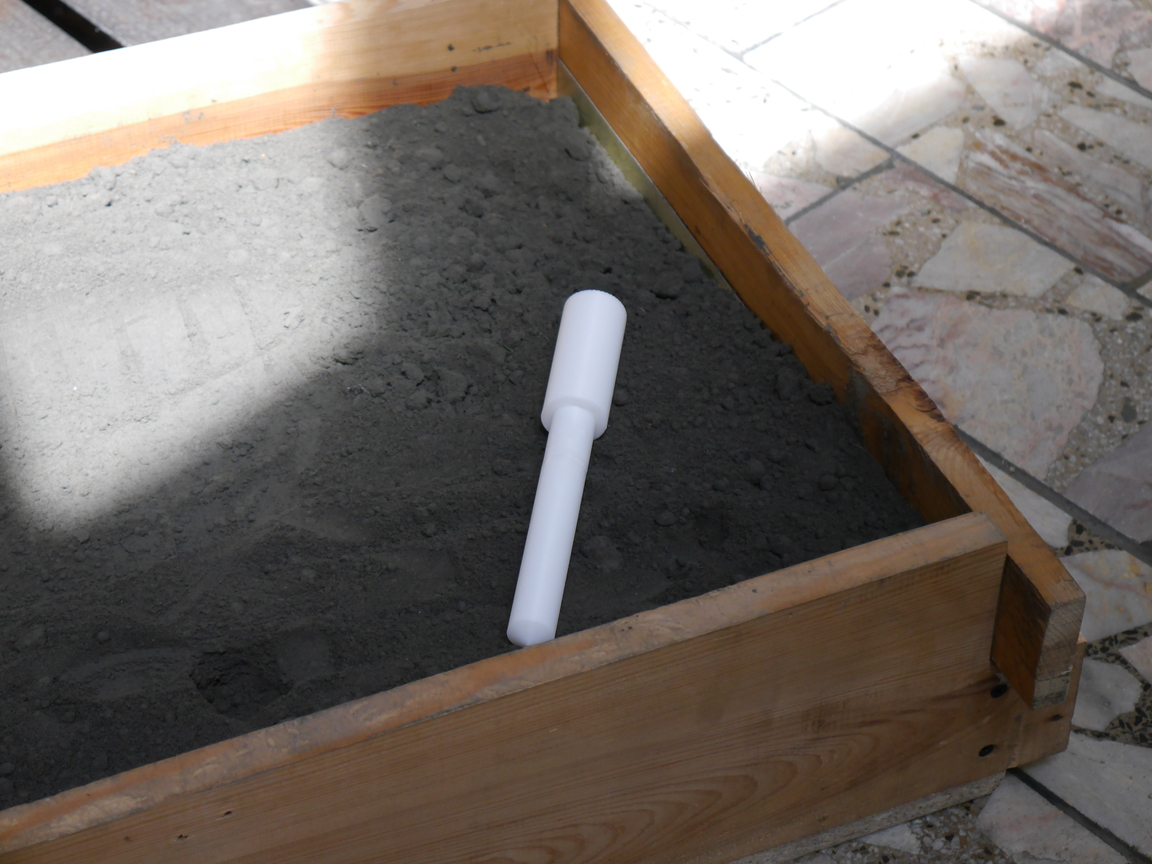cargo_g: (505, 290, 627, 651)
